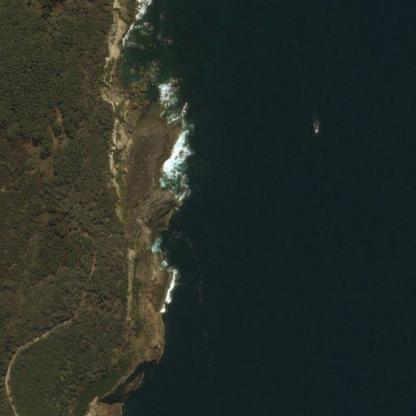ship: (306, 118, 323, 138)
